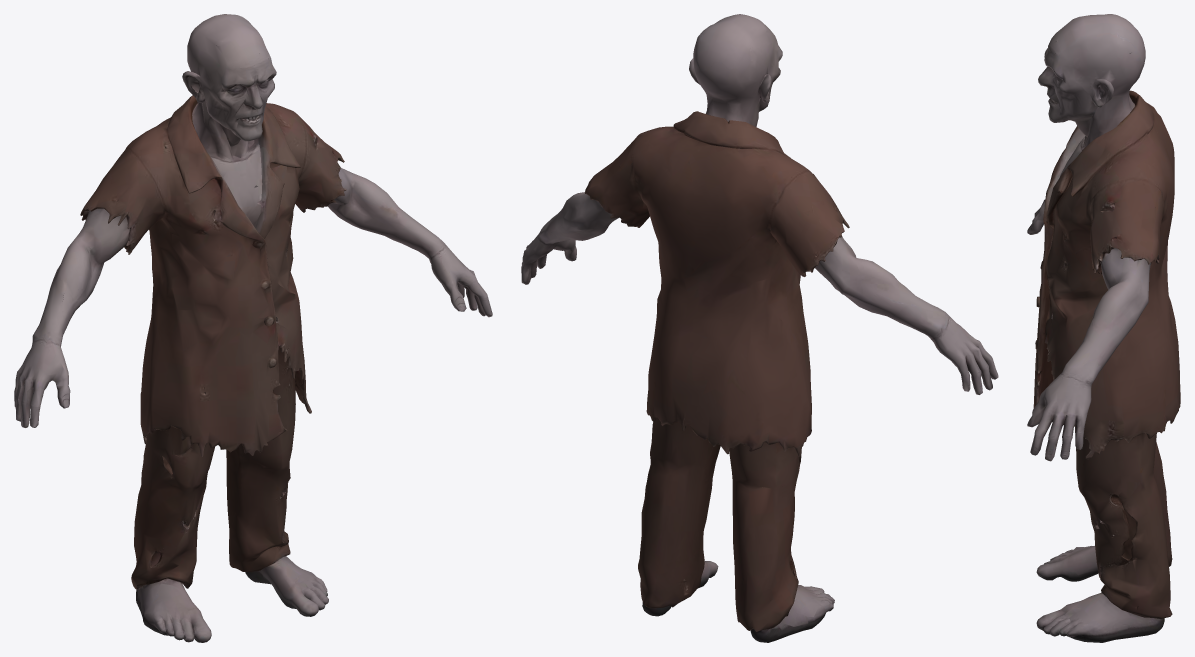
File: zombie_office_idle.glb
The picture shows the model from 3 angles, left to right: view 1: azimuth 30°, elevation 25°; view 2: azimuth 150°, elevation 25°; view 3: azimuth 270°, elevation 25°; orthographic projection.
Visible parts, largest first — view 1: tripo_node_8f89915f-02b3-42e6-8c2c-cb1b0acfca4c; view 2: tripo_node_8f89915f-02b3-42e6-8c2c-cb1b0acfca4c; view 3: tripo_node_8f89915f-02b3-42e6-8c2c-cb1b0acfca4c.
Part boxes in pixels (bbox=[...]): tripo_node_8f89915f-02b3-42e6-8c2c-cb1b0acfca4c: bbox=[14, 14, 492, 642]; tripo_node_8f89915f-02b3-42e6-8c2c-cb1b0acfca4c: bbox=[521, 14, 998, 642]; tripo_node_8f89915f-02b3-42e6-8c2c-cb1b0acfca4c: bbox=[1027, 14, 1180, 642].
Size of the model in its own units: 1.44 by 1.75 by 0.4127.
Materials: 1 (1 with a texture image).
